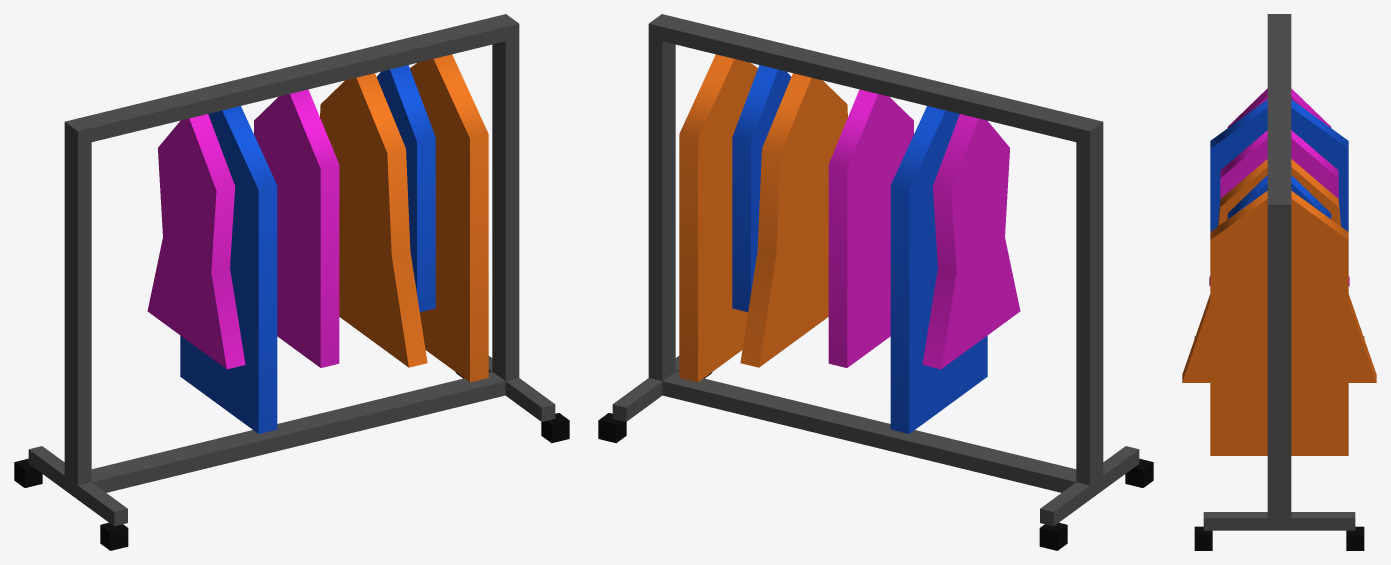
The model's file is SM_ClothesRack 1.fbx.
3 renders of one model, left to right at view 1: azimuth 30°, elevation 25°; view 2: azimuth 150°, elevation 25°; view 3: azimuth 270°, elevation 25°, orthographic. The views are drawn at different scales.
Visible parts, largest first — view 1: Portant; view 2: Portant; view 3: Portant.
Boxes of the visible parts, x1=… form: Portant: x1=14, y1=14, x2=569, y2=550; Portant: x1=598, y1=14, x2=1153, y2=550; Portant: x1=1182, y1=14, x2=1376, y2=550.
Size of the model in its own units: 38.68 by 31.18 by 16.05.
